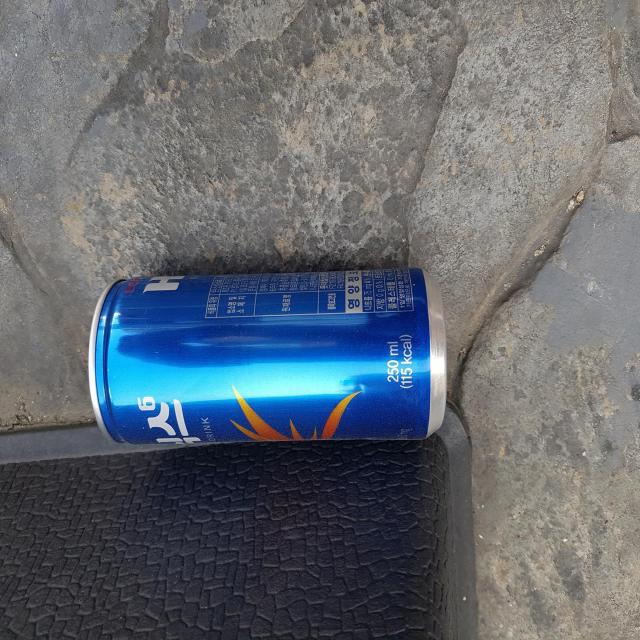can: (88, 268, 447, 446)
